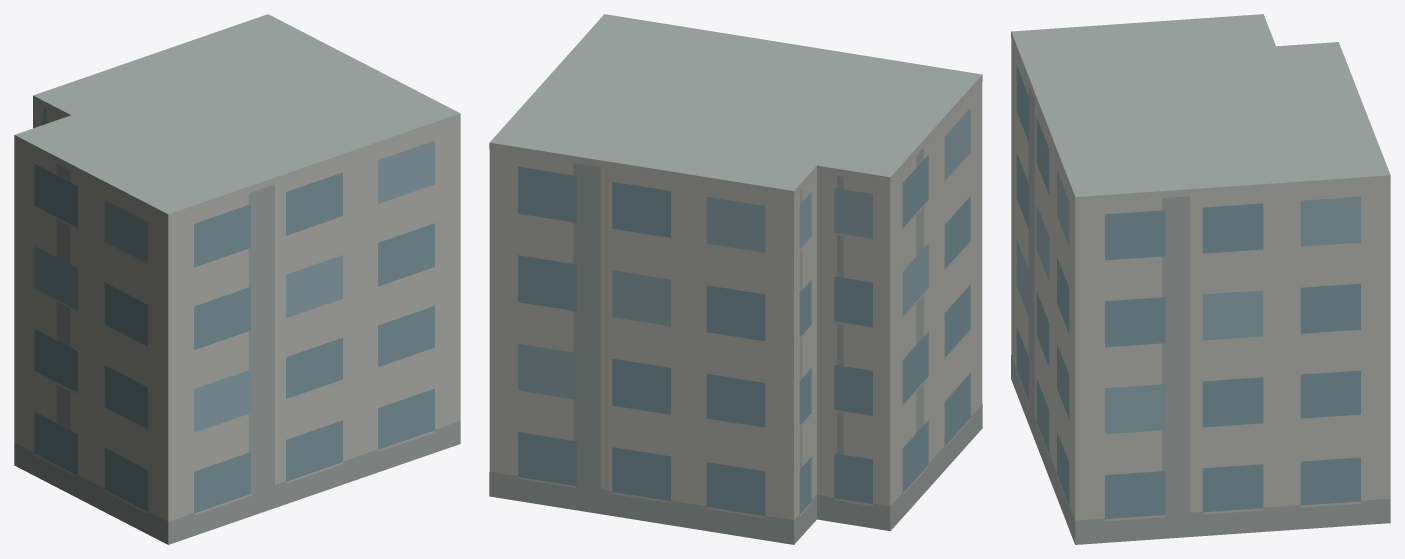
File: residential-b63e4bfb-a8c5-4bb7-96f5-cb80ed581d6a.glb
The picture shows the model from 3 angles, left to right: view 1: azimuth 30°, elevation 25°; view 2: azimuth 150°, elevation 25°; view 3: azimuth 270°, elevation 25°; orthographic projection. The views are drawn at different scales.
Visible parts, largest first — view 1: residential-b63e4bfb-a8c5-4bb7-96f5-cb80ed581d6a.tmp; view 2: residential-b63e4bfb-a8c5-4bb7-96f5-cb80ed581d6a.tmp; view 3: residential-b63e4bfb-a8c5-4bb7-96f5-cb80ed581d6a.tmp.
Part boxes in pixels (x1=…): residential-b63e4bfb-a8c5-4bb7-96f5-cb80ed581d6a.tmp: x1=14, y1=14, x2=460, y2=544; residential-b63e4bfb-a8c5-4bb7-96f5-cb80ed581d6a.tmp: x1=489, y1=14, x2=982, y2=544; residential-b63e4bfb-a8c5-4bb7-96f5-cb80ed581d6a.tmp: x1=1011, y1=14, x2=1390, y2=544.
Bounding box in the file's own units: 13.56 × 12 × 11.88.
